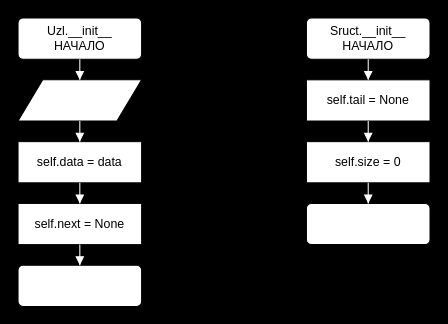
This 448x324 diagram has some shape labels left out. Here are the shapes that lost their labels. From the top down, the box of each, then its label:
(17, 79, 142, 121): data
(305, 202, 430, 245): КОНЕЦ Sruct.__init__
(17, 264, 142, 306): КОНЕЦ Uzl.__init__
